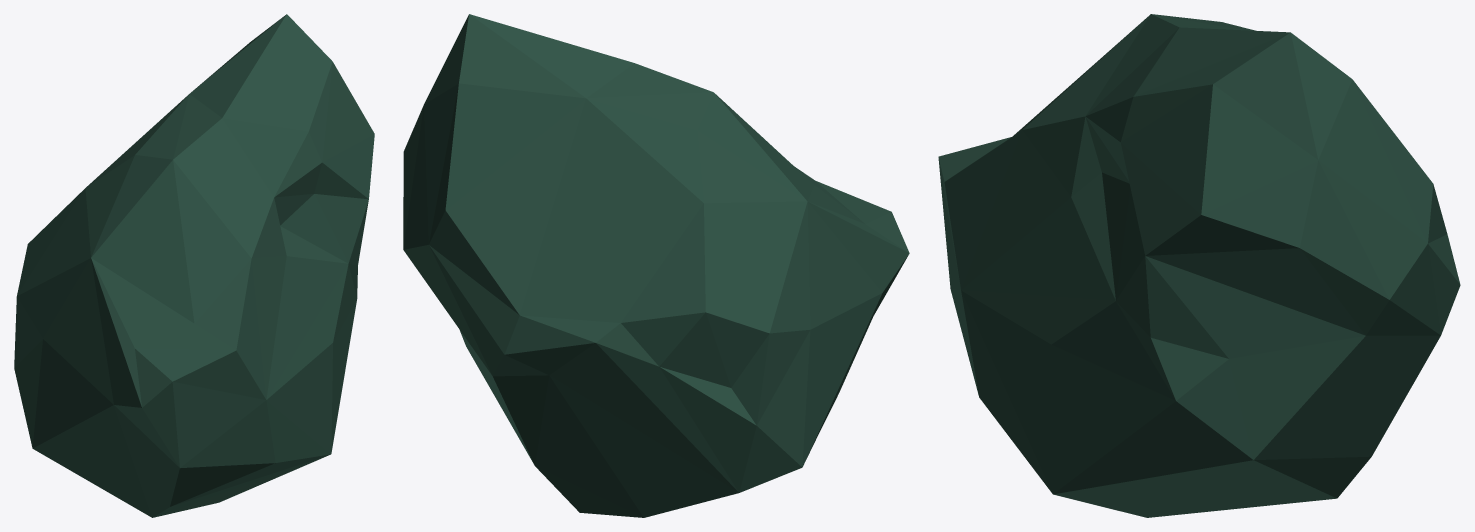
Rendered from SM_large_rock_17.fbx.
3 renders of one model, left to right at view 1: azimuth 30°, elevation 25°; view 2: azimuth 150°, elevation 25°; view 3: azimuth 270°, elevation 25°, orthographic. The views are drawn at different scales.
Parts seen in each view (by area): view 1: large_rock_17; view 2: large_rock_17; view 3: large_rock_17.
Part boxes in pixels (x1,y1,x2,y2): large_rock_17: (14, 14, 374, 517); large_rock_17: (403, 14, 909, 517); large_rock_17: (938, 14, 1460, 517).
Size of the model in its own units: 66.57 by 80.86 by 67.7.
